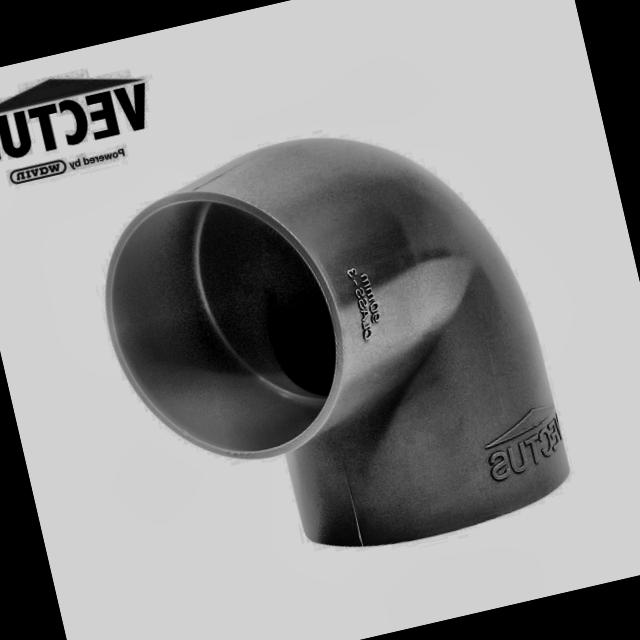ELBOW90: (103, 135, 570, 549)
